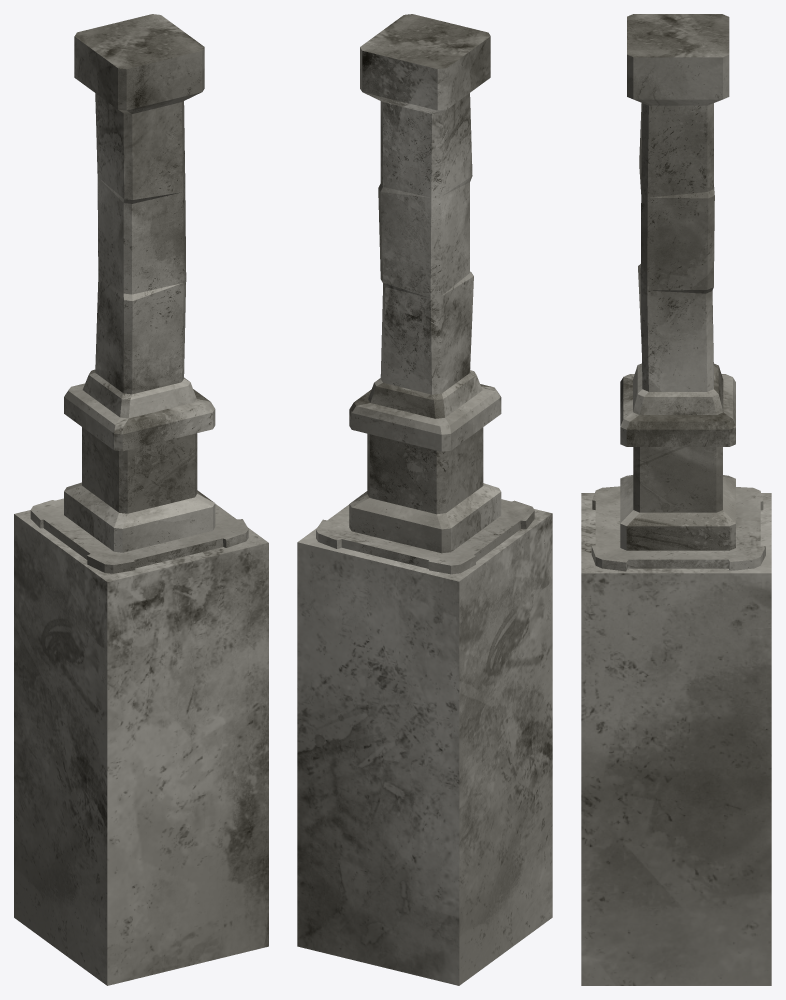
Rendered from Pillar1_Fbx.fbx.
3 views of the same model, side by side, from view 1: azimuth 30°, elevation 25°; view 2: azimuth 150°, elevation 25°; view 3: azimuth 270°, elevation 25° (orthographic). The views are drawn at different scales.
Parts seen in each view (by area): view 1: pCube4, Full_Pillar; view 2: pCube4, Full_Pillar; view 3: pCube4, Full_Pillar.
Boxes of the visible parts, x1,y1,x2,y2 form: pCube4: [14, 504, 268, 985]; Full_Pillar: [30, 14, 248, 573]; pCube4: [297, 504, 552, 985]; Full_Pillar: [316, 14, 534, 574]; pCube4: [581, 493, 771, 985]; Full_Pillar: [591, 14, 765, 571].
Bounding box in the file's own units: 3.55 × 18.72 × 3.55.
